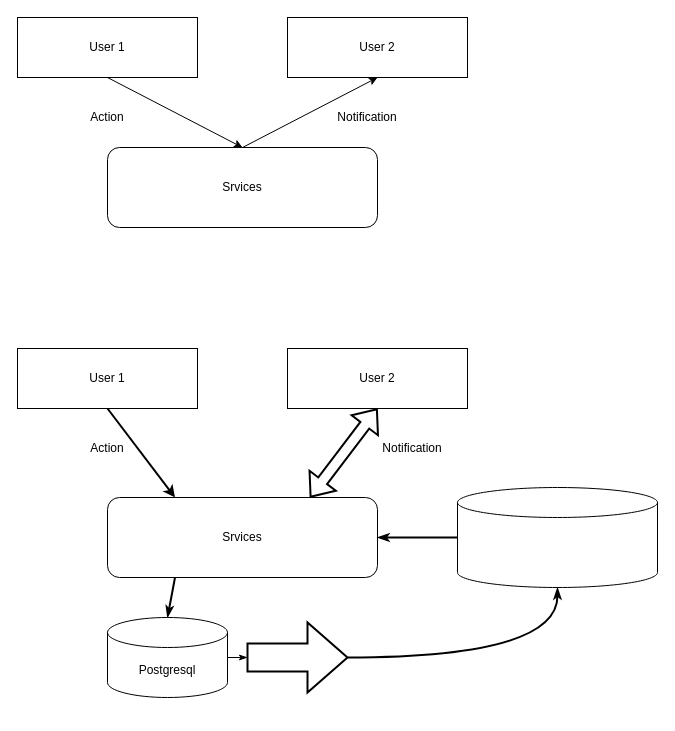
Some shapes in this 675 by 731 pixel diagram are drawn without their labels. The centre of each missing label's shape, as x and y in pixels:
"CDC" goes at point 297,657.
"Kafka" goes at point 557,537.
